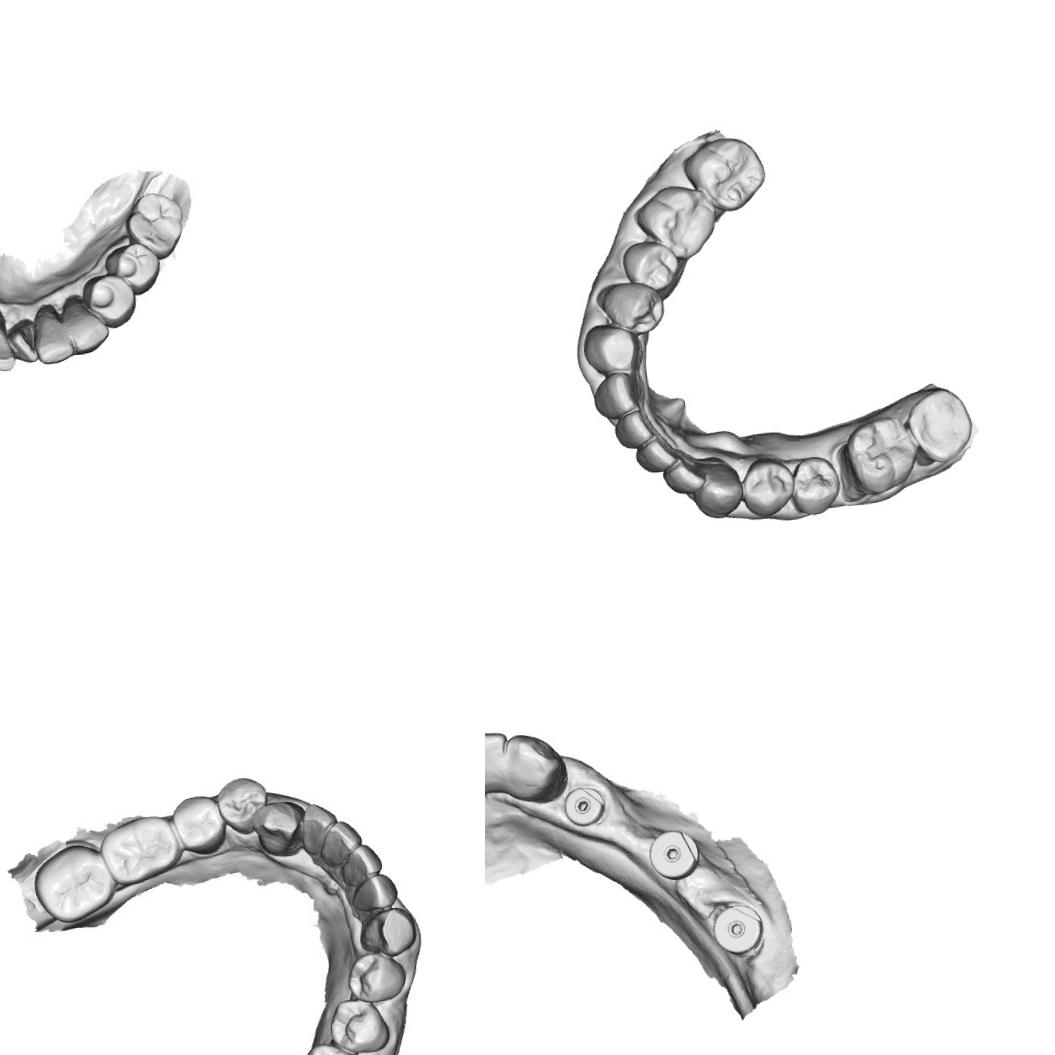canine: (500, 728, 566, 805), (688, 454, 744, 520), (581, 320, 644, 378), (60, 291, 112, 358), (251, 797, 304, 848), (362, 911, 415, 955)
implant: (715, 901, 767, 959), (650, 826, 698, 882), (564, 786, 605, 829)
incisor: (590, 369, 640, 421), (295, 800, 338, 856), (660, 454, 707, 496), (611, 407, 656, 450), (632, 434, 680, 474), (35, 306, 71, 358), (340, 844, 384, 886), (485, 726, 513, 791), (352, 876, 397, 911), (321, 822, 359, 860), (7, 316, 38, 362), (0, 310, 15, 374)
molar: (679, 133, 768, 215), (837, 414, 921, 500), (32, 840, 116, 926), (632, 181, 718, 262), (904, 384, 975, 464), (100, 818, 181, 881), (128, 193, 186, 260)
premolar: (594, 278, 665, 336), (738, 454, 798, 520), (325, 998, 390, 1055), (100, 241, 165, 297), (787, 454, 842, 516), (620, 237, 679, 292), (172, 796, 228, 852), (82, 272, 135, 328), (216, 773, 267, 830), (347, 954, 408, 1001)
